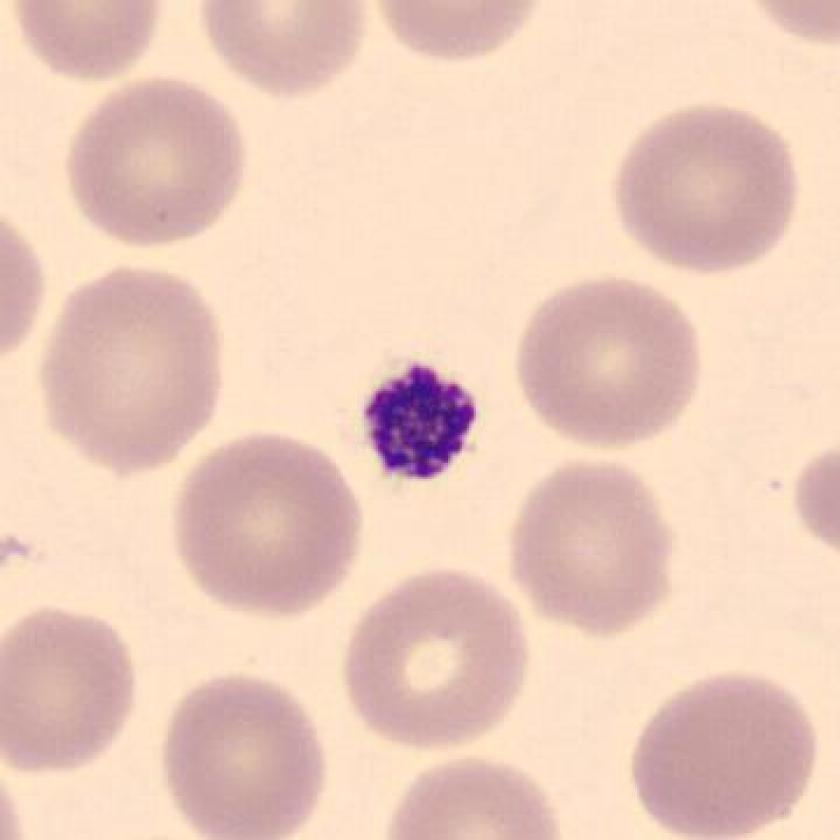platelets: (361, 362, 487, 492)
